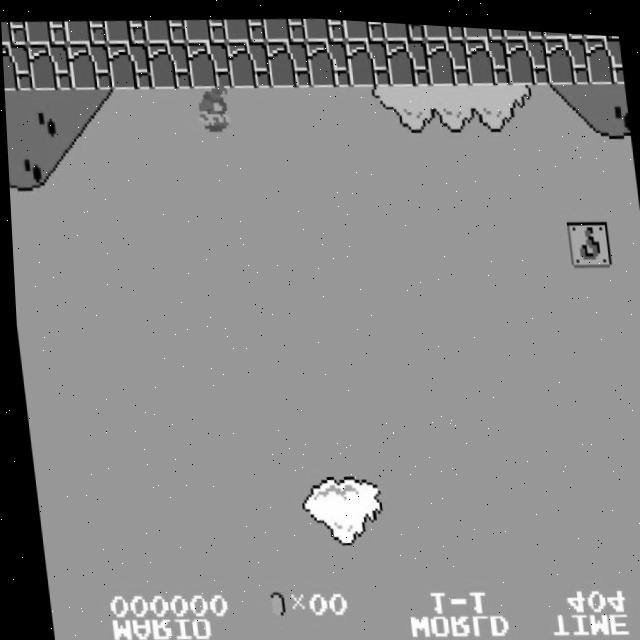11- little_mario: (185, 80, 233, 134)
13- mystery_block: (564, 211, 610, 262)
17- undestructible_block: (504, 29, 550, 81), (26, 41, 72, 92), (66, 40, 112, 91), (106, 39, 152, 90), (145, 38, 191, 89), (185, 37, 231, 88), (225, 36, 271, 87), (265, 35, 311, 86), (305, 34, 351, 85), (344, 33, 390, 84), (384, 32, 430, 83), (424, 31, 470, 82), (464, 31, 510, 82), (543, 28, 589, 79), (584, 28, 623, 78), (2, 42, 32, 92), (23, 18, 67, 46), (63, 17, 107, 45), (103, 16, 147, 44), (143, 15, 187, 43), (182, 14, 226, 42), (222, 13, 266, 41), (262, 13, 306, 41), (302, 14, 346, 39), (342, 16, 386, 38), (381, 18, 425, 38), (421, 20, 465, 37), (1, 20, 27, 47), (461, 21, 504, 35), (501, 23, 544, 34), (541, 25, 584, 34)
